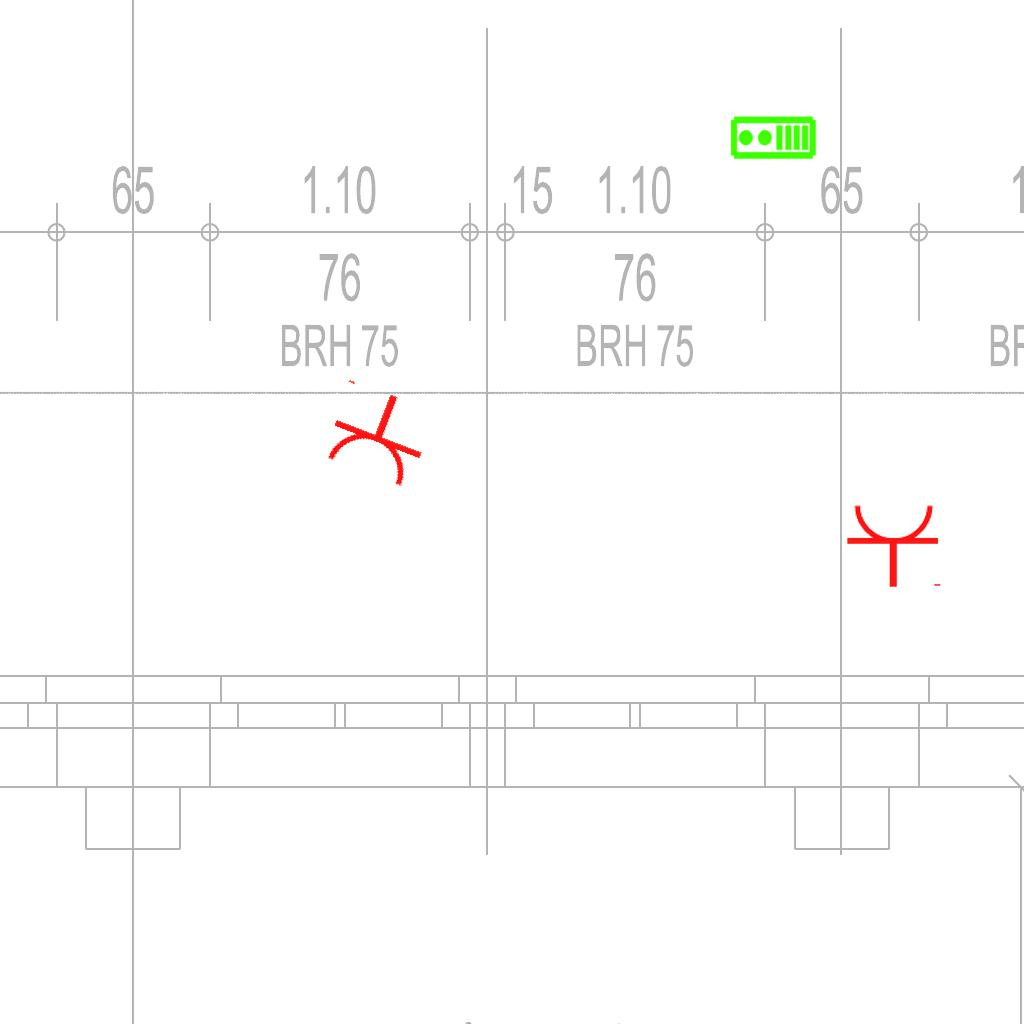Gegensprechanlage_mit_Video: (729, 115, 817, 162)
Schukosteckdose_einfach: (315, 375, 440, 493), (845, 502, 945, 589)
